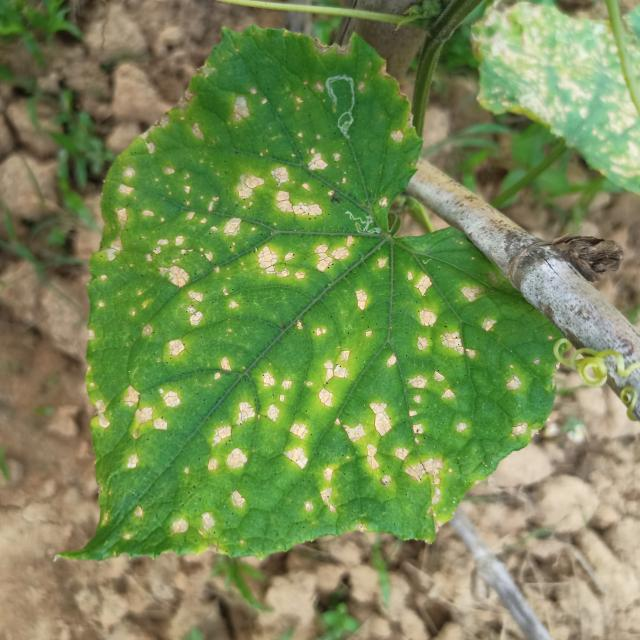disease_cucumber: (94, 75, 532, 529)
